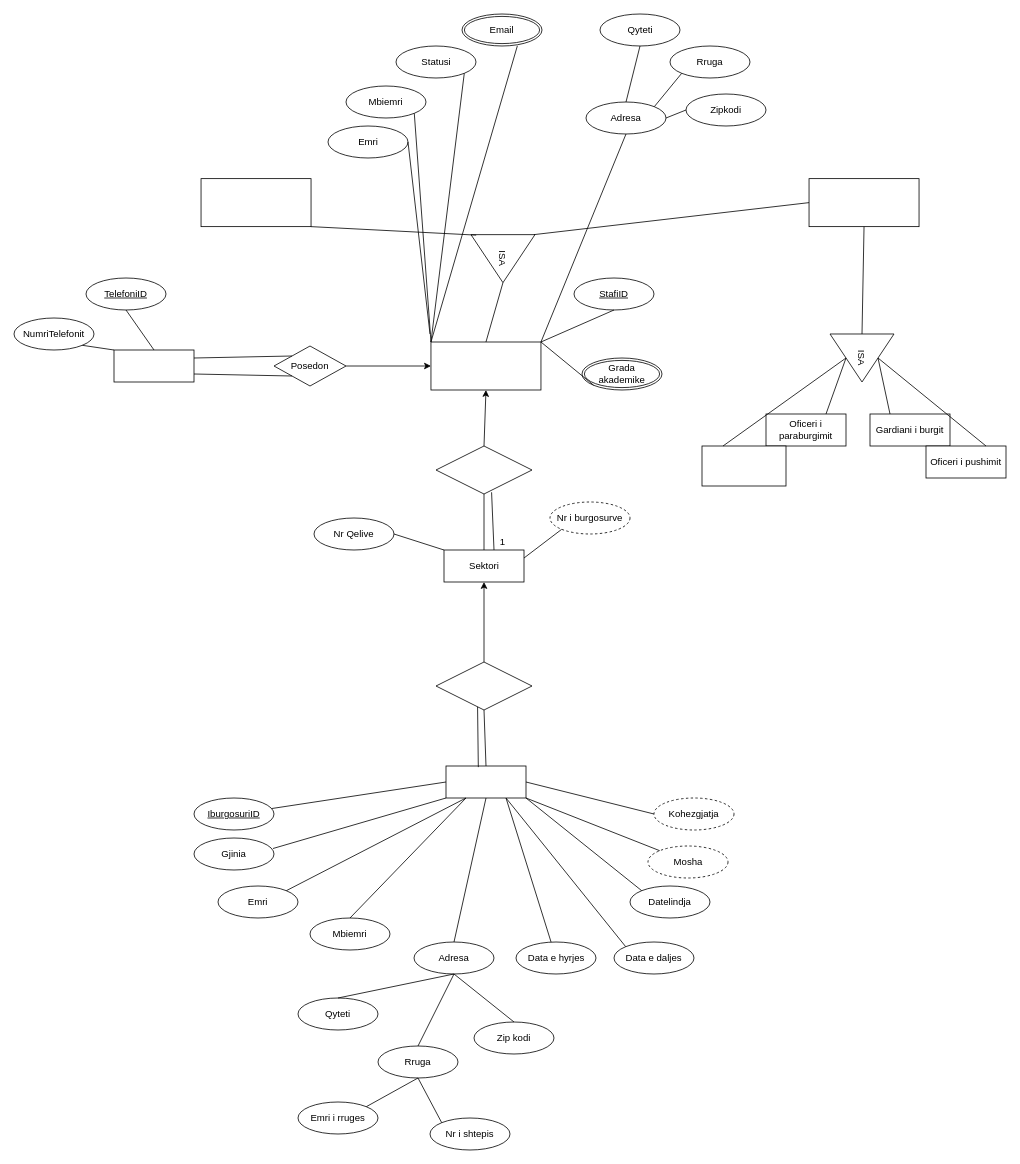
This 1020x1164 diagram has some shape labels left out. Each missing label, with the centre of its shape:
"I burgosuri" goes at point (485, 781).
"Medics" goes at point (255, 202).
"Oficeri" goes at point (863, 202).
"Oficeri korrektues" goes at point (743, 465).
"Permban" goes at point (483, 685).
"Stafi" goes at point (485, 365).
"Telefoni" goes at point (153, 365).
"Udheheq" goes at point (483, 469).
